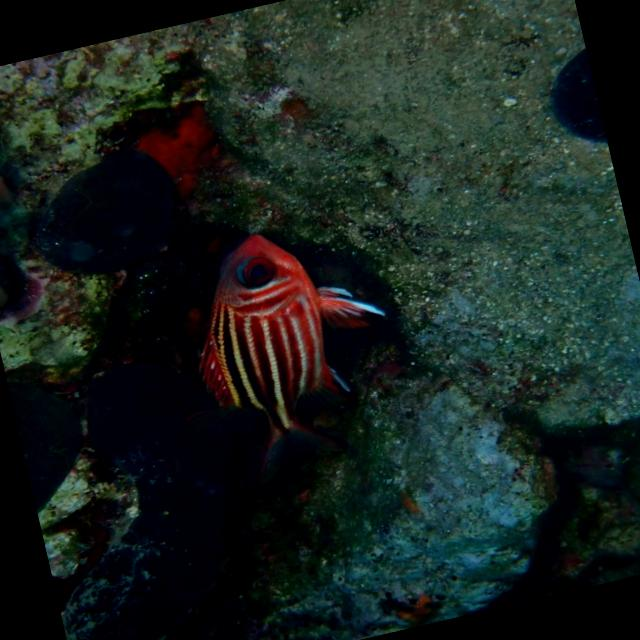Asker Baligi: (147, 192, 426, 472)
